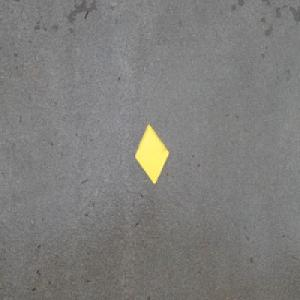PlasticPart: (133, 122, 170, 186)
